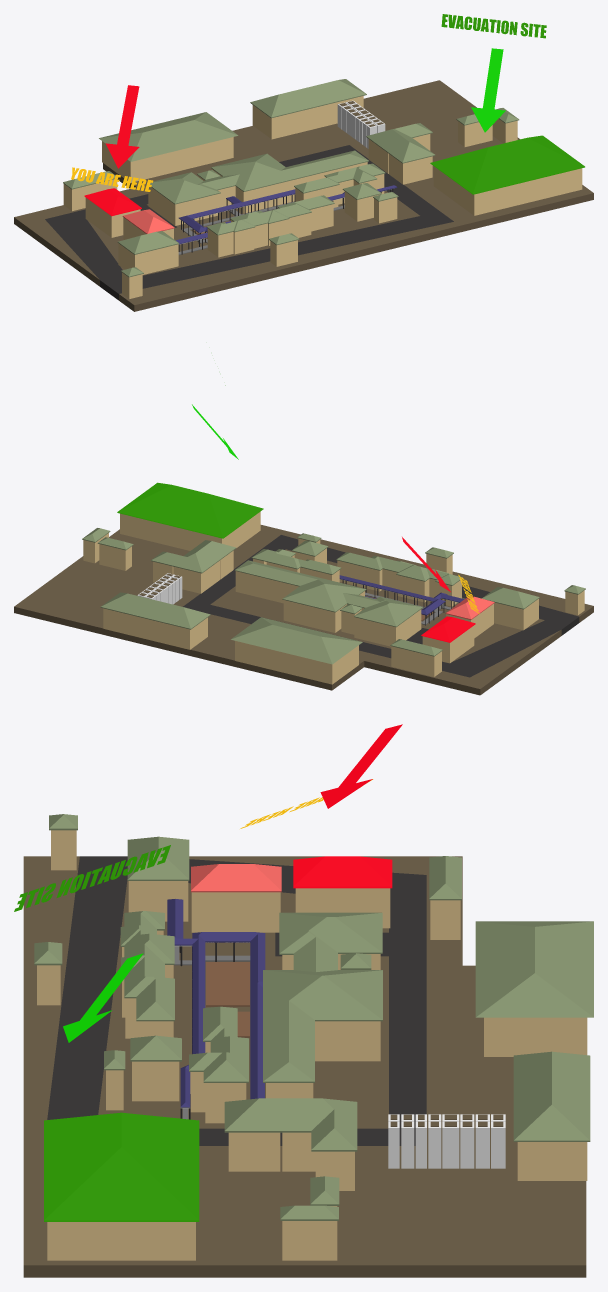
File: ITBUILDING.glb
3 views of the same model, one above another, from view 1: azimuth 30°, elevation 25°; view 2: azimuth 150°, elevation 25°; view 3: azimuth 270°, elevation 25° (orthographic). The views are drawn at different scales.
Parts seen in each view (by area): view 1: Toposolid Grassland - 1200mm [352516], Toposolid Grassland - 1200mm [354195], Basic Roof Generic - 125mm [387914], Basic Roof Generic - 125mm [384035], Basic Roof Generic - 125mm [378573], Basic Wall Generic - 200mm [355787], Basic Wall Generic - 200mm [355672], Basic Roof Generic - 125mm [385592], Basic Roof Generic - 125mm [385698], Basic Roof Generic - 125mm [387351], Basic Wall Generic - 200mm [355773], Basic Wall Generic - 200mm [357350] (+28 smaller); view 2: Toposolid Grassland - 1200mm [352516], Toposolid Grassland - 1200mm [354195], Basic Roof Generic - 125mm [387914], Basic Roof Generic - 125mm [384035], Basic Roof Generic - 125mm [378573], Basic Wall Generic - 200mm [355757], Basic Roof Generic - 125mm [385592], Basic Wall Generic - 200mm [355771], Basic Wall Generic - 200mm [355789], Basic Roof Generic - 125mm [385698], Basic Roof Generic - 125mm [387351], Basic Wall Generic - 200mm [357221] (+18 smaller); view 3: Toposolid Grassland - 1200mm [352516], Toposolid Grassland - 1200mm [354195], Basic Roof Generic - 125mm [387914], Basic Roof Generic - 125mm [384035], Basic Roof Generic - 125mm [378573], Basic Roof Generic - 125mm [385592], Basic Wall Generic - 200mm [355788], Basic Roof Generic - 125mm [389243], Basic Roof Generic - 125mm [387351], Basic Roof Generic - 125mm [385698], Toposolid Grassland - 1200mm [354195].001, Basic Wall Generic - 200mm [355719] (+29 smaller).
Part boxes in pixels (x1=…): Toposolid Grassland - 1200mm [352516]: x1=14, y1=80, x2=593, y2=311; Toposolid Grassland - 1200mm [354195]: x1=45, y1=145, x2=453, y2=300; Basic Roof Generic - 125mm [387914]: x1=430, y1=135, x2=584, y2=194; Basic Roof Generic - 125mm [384035]: x1=146, y1=150, x2=368, y2=204; Basic Roof Generic - 125mm [378573]: x1=99, y1=112, x2=238, y2=161; Basic Wall Generic - 200mm [355787]: x1=475, y1=168, x2=582, y2=215; Basic Wall Generic - 200mm [355672]: x1=131, y1=137, x2=233, y2=182; Basic Roof Generic - 125mm [385592]: x1=250, y1=79, x2=366, y2=118; Basic Roof Generic - 125mm [385698]: x1=206, y1=195, x2=334, y2=235; Basic Roof Generic - 125mm [387351]: x1=366, y1=123, x2=435, y2=163; Basic Wall Generic - 200mm [355773]: x1=273, y1=96, x2=363, y2=138; Basic Wall Generic - 200mm [357350]: x1=243, y1=162, x2=366, y2=213; Toposolid Grassland - 1200mm [352516]: x1=14, y1=525, x2=593, y2=695; Toposolid Grassland - 1200mm [354195]: x1=183, y1=535, x2=579, y2=677; Basic Roof Generic - 125mm [387914]: x1=117, y1=482, x2=263, y2=538; Basic Roof Generic - 125mm [384035]: x1=234, y1=560, x2=422, y2=627; Basic Roof Generic - 125mm [378573]: x1=231, y1=617, x2=362, y2=664; Basic Wall Generic - 200mm [355757]: x1=236, y1=641, x2=331, y2=684; Basic Roof Generic - 125mm [385592]: x1=100, y1=592, x2=210, y2=629; Basic Wall Generic - 200mm [355771]: x1=104, y1=608, x2=190, y2=649; Basic Wall Generic - 200mm [355789]: x1=121, y1=514, x2=222, y2=550; Basic Roof Generic - 125mm [385698]: x1=336, y1=552, x2=462, y2=585; Basic Roof Generic - 125mm [387351]: x1=151, y1=540, x2=236, y2=573; Basic Wall Generic - 200mm [357221]: x1=235, y1=571, x2=298, y2=603; Toposolid Grassland - 1200mm [352516]: x1=23, y1=856, x2=586, y2=1277; Toposolid Grassland - 1200mm [354195]: x1=47, y1=856, x2=426, y2=1145; Basic Roof Generic - 125mm [387914]: x1=44, y1=1112, x2=199, y2=1221; Basic Roof Generic - 125mm [384035]: x1=263, y1=912, x2=382, y2=1082; Basic Roof Generic - 125mm [378573]: x1=475, y1=921, x2=593, y2=1017; Basic Roof Generic - 125mm [385592]: x1=513, y1=1051, x2=590, y2=1141; Basic Wall Generic - 200mm [355788]: x1=49, y1=1222, x2=195, y2=1260; Basic Roof Generic - 125mm [389243]: x1=167, y1=899, x2=265, y2=1107; Basic Roof Generic - 125mm [387351]: x1=224, y1=1098, x2=357, y2=1151; Basic Roof Generic - 125mm [385698]: x1=120, y1=911, x2=174, y2=1021; Toposolid Grassland - 1200mm [354195].001: x1=49, y1=857, x2=127, y2=1119; Basic Wall Generic - 200mm [355719]: x1=486, y1=1017, x2=587, y2=1056.
Size of the model in its own units: 86 by 33.38 by 51.53.
